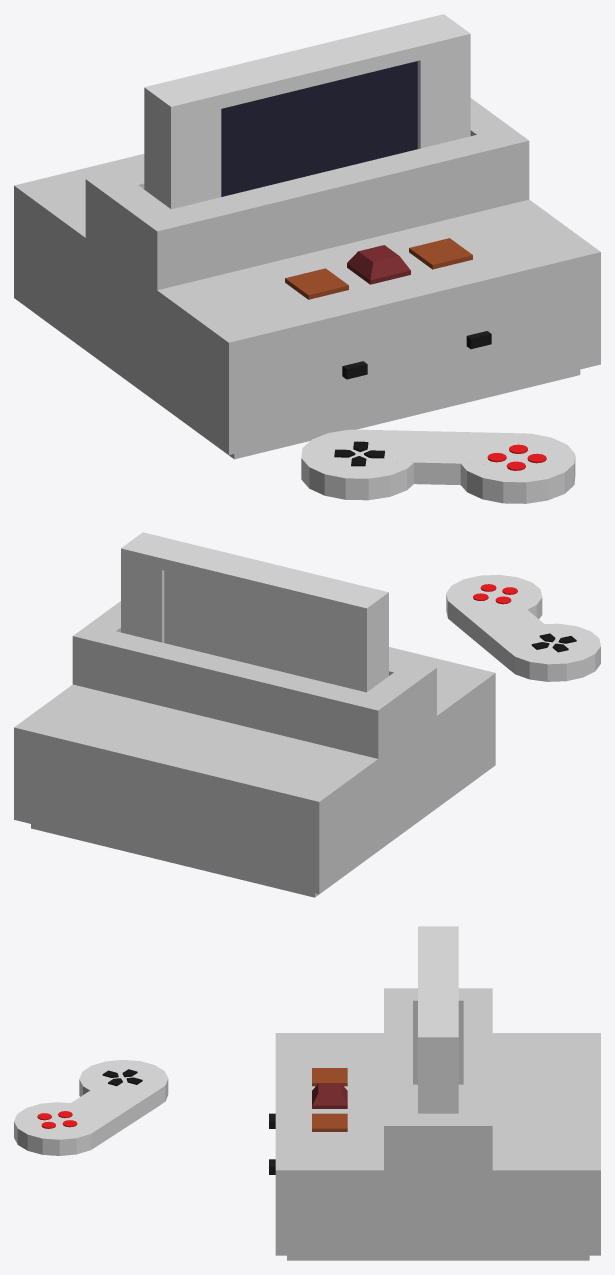
The model's file is gamemachine.gltf.
3 renders of one model, top to bottom at view 1: azimuth 30°, elevation 25°; view 2: azimuth 150°, elevation 25°; view 3: azimuth 270°, elevation 25°, orthographic. The views are drawn at different scales.
Visible parts, largest first — view 1: gamemachine, gamemachine_chip, gamepad_m, gamepad_r, gamepad_l; view 2: gamemachine, gamemachine_chip, gamepad_m, gamepad_l, gamepad_r; view 3: gamemachine, gamemachine_chip, gamepad_m, gamepad_r, gamepad_l.
Boxes of the visible parts, x1=… form: gamemachine: x1=14, y1=98, x2=600, y2=459; gamemachine_chip: x1=144, y1=14, x2=470, y2=209; gamepad_m: x1=358, y1=429, x2=520, y2=484; gamepad_r: x1=460, y1=433, x2=575, y2=503; gamepad_l: x1=301, y1=429, x2=413, y2=500; gamemachine: x1=14, y1=601, x2=495, y2=897; gamemachine_chip: x1=121, y1=532, x2=388, y2=692; gamepad_m: x1=451, y1=593, x2=560, y2=670; gamepad_l: x1=511, y1=623, x2=600, y2=681; gamepad_r: x1=446, y1=574, x2=542, y2=620; gamemachine: x1=269, y1=988, x2=600, y2=1260; gamemachine_chip: x1=418, y1=926, x2=458, y2=1113; gamepad_m: x1=51, y1=1077, x2=160, y2=1147; gamepad_r: x1=14, y1=1102, x2=94, y2=1155; gamepad_l: x1=79, y1=1059, x2=168, y2=1104.
Bounding box in the file's own units: 0.8511 × 0.5874 × 1.46.
